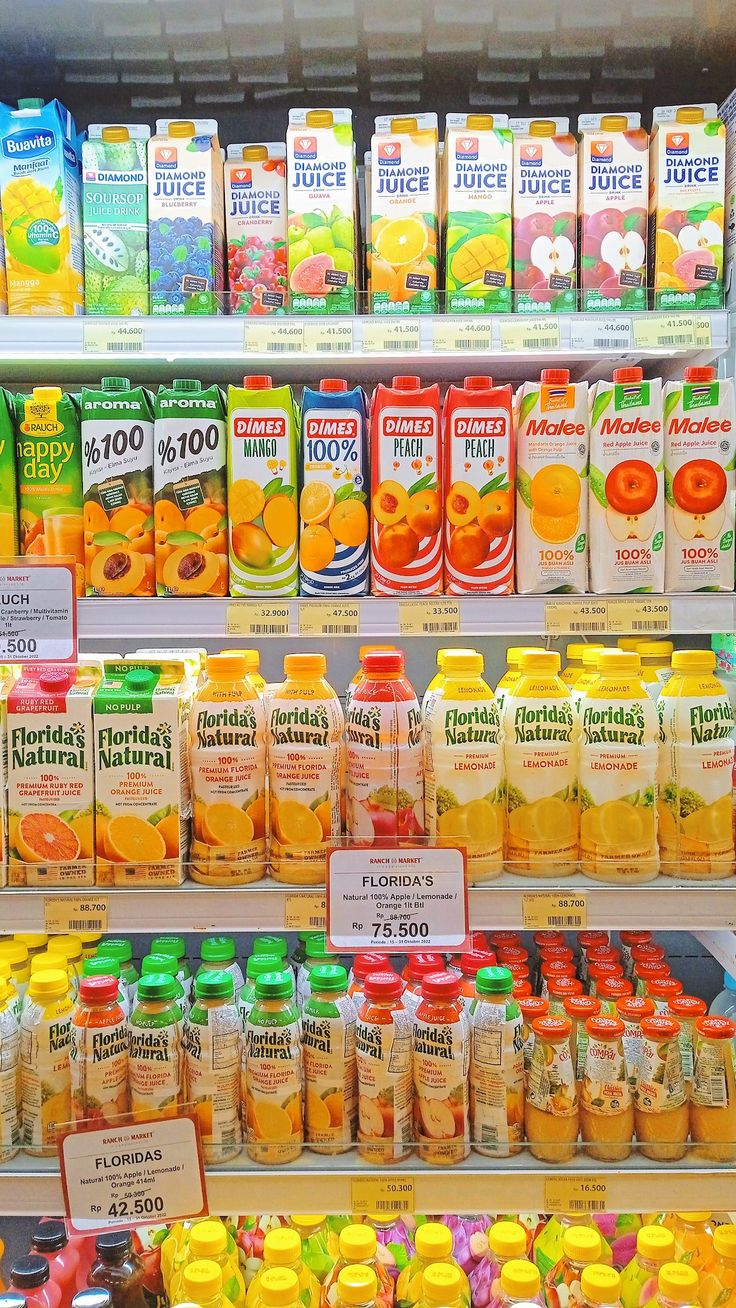Diamond Juice: (271, 128, 362, 219), (433, 131, 524, 222), (569, 133, 660, 224)
Dimes Peach: (375, 399, 444, 468)
Floridas Natural: (90, 698, 186, 794), (502, 685, 583, 766), (257, 684, 338, 765)
Malee: (522, 393, 591, 462), (599, 390, 664, 455)
